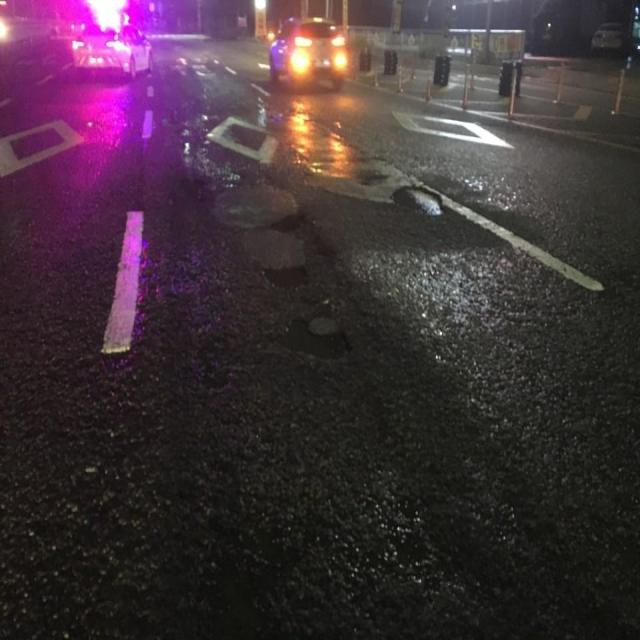pothole: (233, 219, 307, 280)
